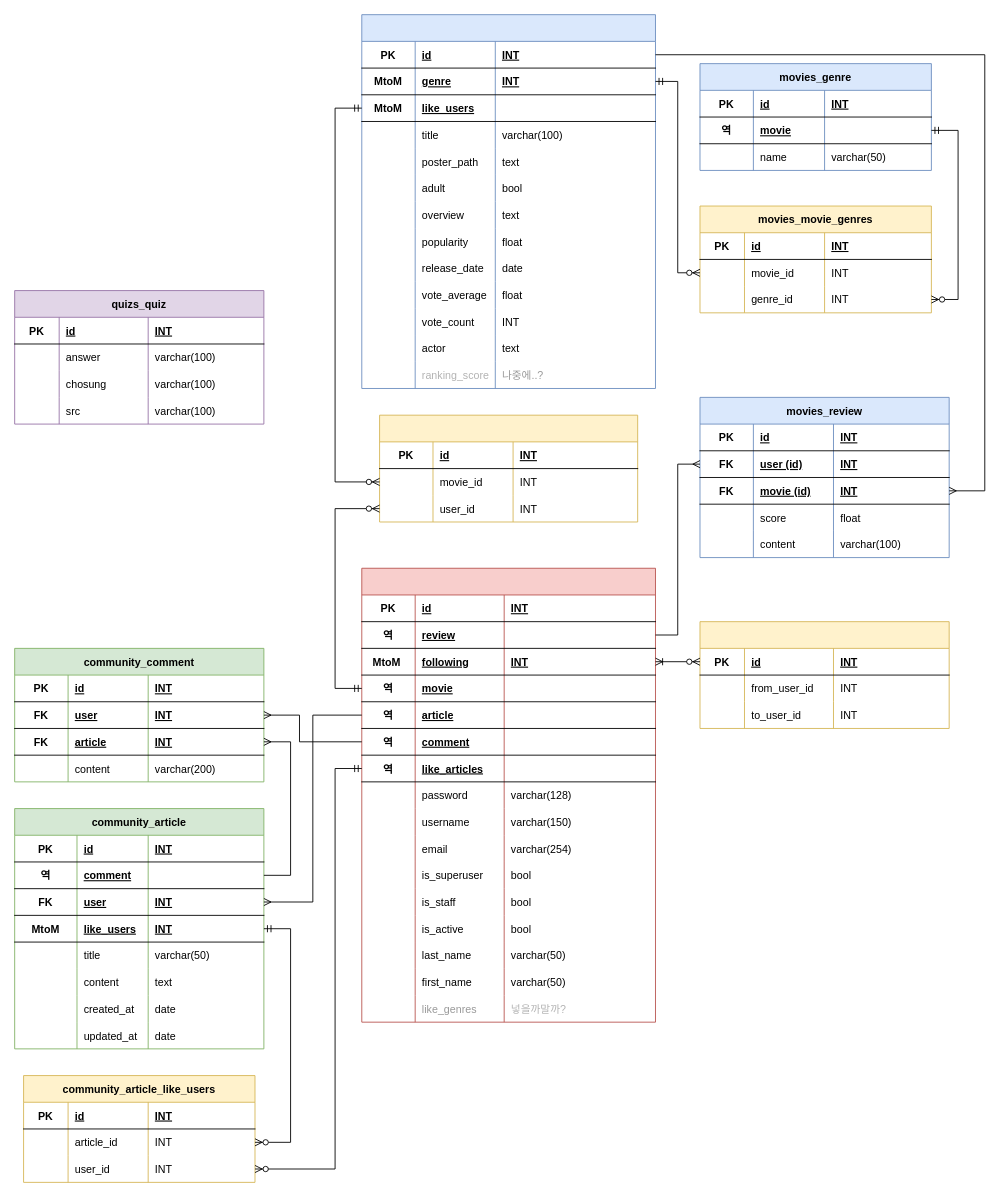
Image size: 999x1197. Some labels were removed from this diagram. Each missing label, with the box of its shape:
accounts_user: (361, 567, 655, 1022)
accounts_user_followings: (699, 621, 949, 728)
movies_movie: (361, 14, 655, 388)
movies_movie_like_users: (379, 414, 638, 522)
